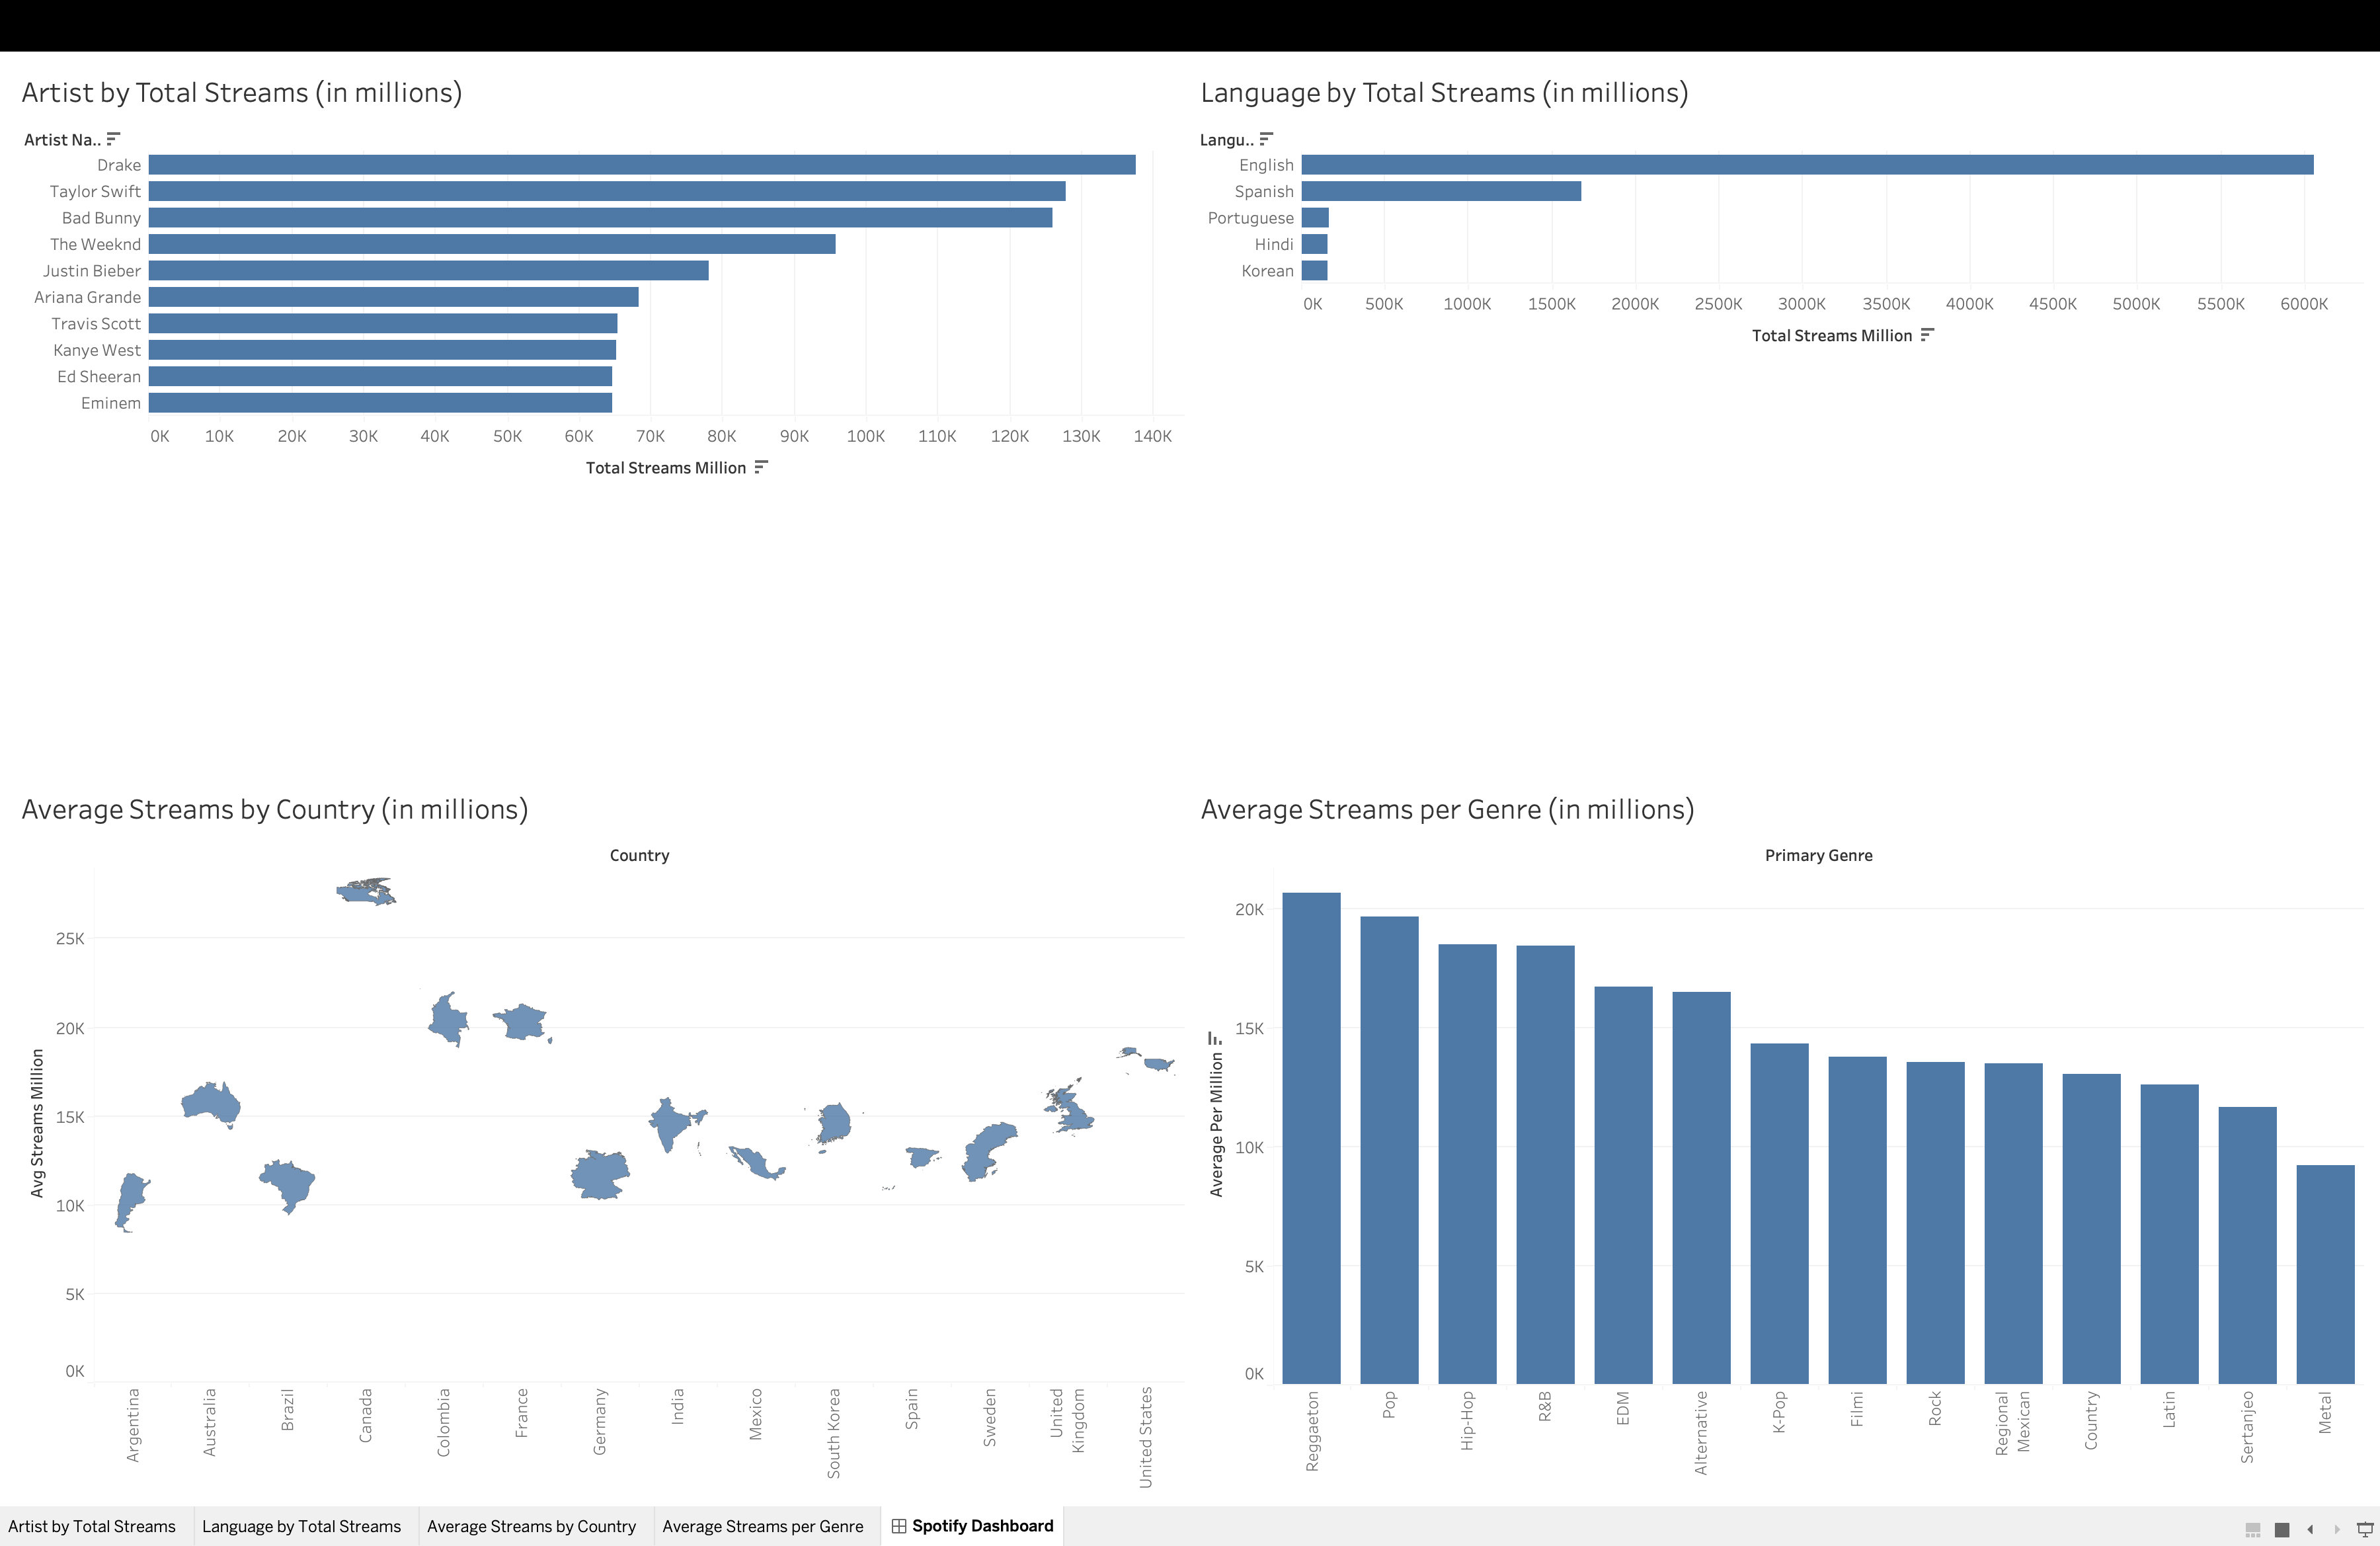

The dashboard page shown, as its layout file describes it:
{"tool":"tableau","page":{"name":"Spotify Dashboard","canvas":[1000,1000],"units":"permille","ordinal":0},"visuals":[{"type":"worksheet","title":"Artist by Total Streams","mark":"Automatic","rows":["artist_name"],"cols":["total_streams_million"],"box":[5,7.7,495,492.3]},{"type":"worksheet","title":"Language by Total Streams","mark":"Automatic","rows":["language"],"cols":["total_streams_million"],"box":[500,7.7,495,492.3]},{"type":"worksheet","title":"Average Streams by Country","mark":"Multipolygon","rows":["avg_streams_million"],"cols":["country"],"box":[5,500,495,492.3]},{"type":"worksheet","title":"Average Streams per Genre","mark":"Automatic","rows":["average_per_million"],"cols":["primary_genre"],"box":[500,500,495,492.3]}]}

Visuals, with their boxes on the dashboard's canvas, which has no fixed pixel size, in thousandths of its width and height (x1, y1, x2, y2). These are canvas units, not pixel positions in the 2380x1546 screenshot, which may show the page scaled, cropped or inside an application window:
"Artist by Total Streams" worksheet: [left=5, top=8, right=500, bottom=500]
"Language by Total Streams" worksheet: [left=500, top=8, right=995, bottom=500]
"Average Streams by Country" worksheet (Multipolygon marks): [left=5, top=500, right=500, bottom=992]
"Average Streams per Genre" worksheet: [left=500, top=500, right=995, bottom=992]
